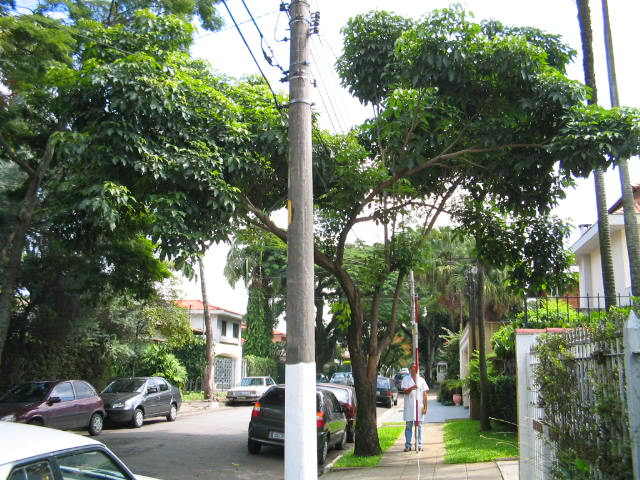crown: (69, 3, 640, 302)
stem: (337, 371, 393, 456)
stick: (407, 294, 427, 451)
tree: (68, 3, 640, 456)
